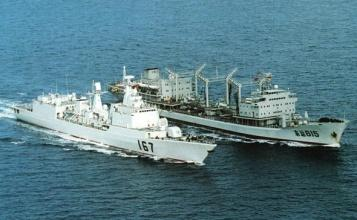warship: (112, 60, 348, 144), (13, 88, 217, 164)
